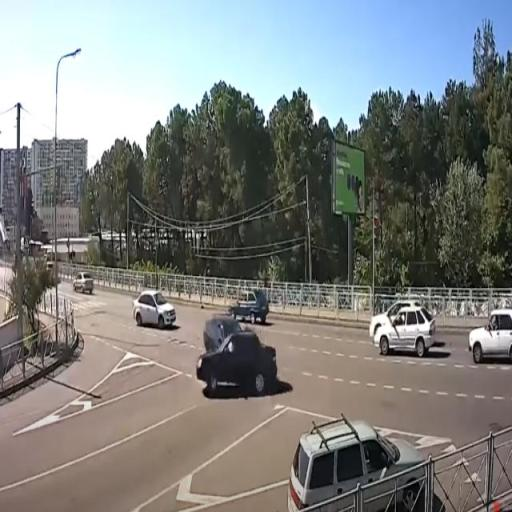小汽车: (288, 414, 428, 512), (374, 308, 438, 356), (467, 310, 512, 364), (131, 290, 178, 327), (229, 290, 269, 324)
小汽车撞小汽车: (196, 312, 280, 394)
